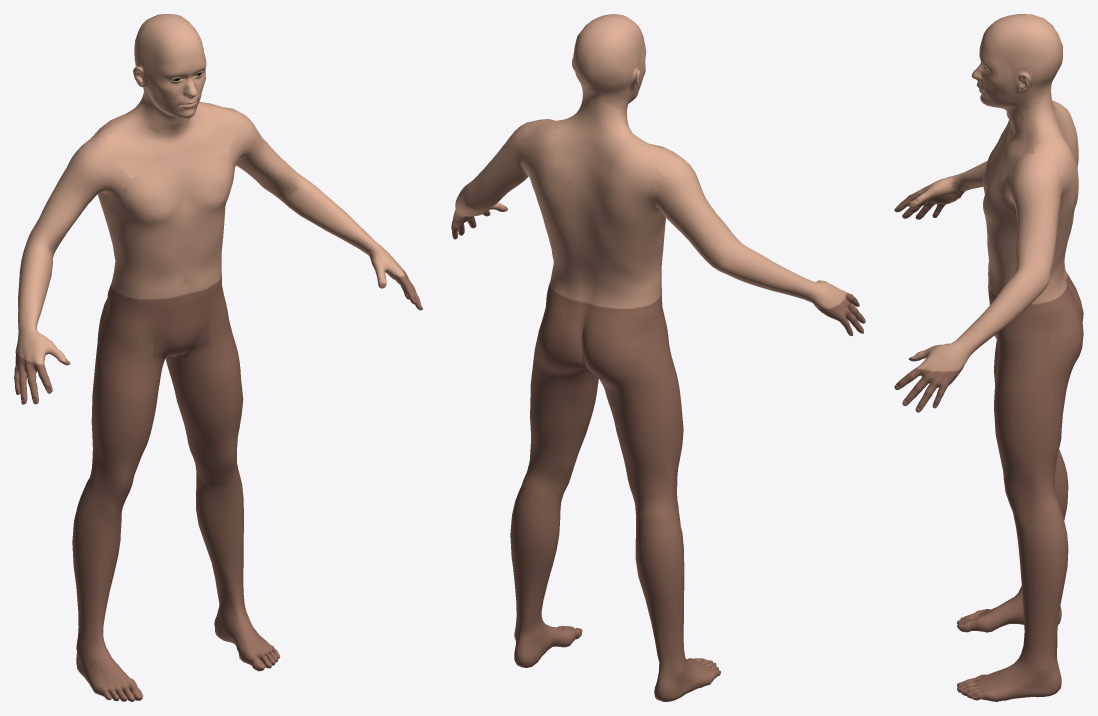
The model's file is nicholas_body.obj.
The picture shows the model from 3 angles, left to right: view 1: azimuth 30°, elevation 25°; view 2: azimuth 150°, elevation 25°; view 3: azimuth 270°, elevation 25°; orthographic projection.
Visible parts, largest first — view 1: torso, thigh_r, thigh_l, shin_r, shin_l, head, upperarm_r, upperarm_l, forearm_l, forearm_r, hand_r, hand_l; view 2: torso, thigh_r, shin_r, shin_l, thigh_l, head, upperarm_r, upperarm_l, forearm_r, hand_r; view 3: torso, thigh_l, shin_l, head, upperarm_l, forearm_l, hand_l, shin_r, hand_r, forearm_r.
Boxes of the visible parts, x1=… form: torso: x1=93, y1=94, x2=236, y2=358; thigh_r: x1=85, y1=314, x2=164, y2=511; thigh_l: x1=165, y1=308, x2=243, y2=486; shin_r: x1=72, y1=484, x2=142, y2=701; shin_l: x1=196, y1=471, x2=280, y2=671; head: x1=133, y1=14, x2=206, y2=132; upperarm_r: x1=27, y1=125, x2=143, y2=253; upperarm_l: x1=203, y1=103, x2=300, y2=202; forearm_l: x1=283, y1=173, x2=374, y2=254; forearm_r: x1=18, y1=235, x2=53, y2=338; hand_r: x1=14, y1=325, x2=70, y2=404; hand_l: x1=367, y1=241, x2=422, y2=310; torso: x1=517, y1=96, x2=666, y2=382; thigh_r: x1=599, y1=328, x2=683, y2=517; shin_r: x1=635, y1=504, x2=720, y2=701; shin_l: x1=510, y1=479, x2=582, y2=667; thigh_l: x1=524, y1=337, x2=598, y2=503; head: x1=572, y1=14, x2=646, y2=109; upperarm_r: x1=643, y1=143, x2=738, y2=270; upperarm_l: x1=464, y1=119, x2=553, y2=212; forearm_r: x1=714, y1=241, x2=823, y2=304; hand_r: x1=813, y1=280, x2=865, y2=336; torso: x1=983, y1=86, x2=1083, y2=357; thigh_l: x1=994, y1=332, x2=1078, y2=522; shin_l: x1=957, y1=503, x2=1068, y2=701; head: x1=971, y1=14, x2=1062, y2=132; upperarm_l: x1=996, y1=142, x2=1063, y2=282; forearm_l: x1=956, y1=267, x2=1049, y2=361; hand_l: x1=894, y1=340, x2=966, y2=412; shin_r: x1=957, y1=449, x2=1068, y2=632; hand_r: x1=894, y1=174, x2=964, y2=219; forearm_r: x1=951, y1=161, x2=987, y2=191.
Bounding box in the file's own units: 1.09 × 1.69 × 0.45.
Materials: 7 (2 with a texture image).
